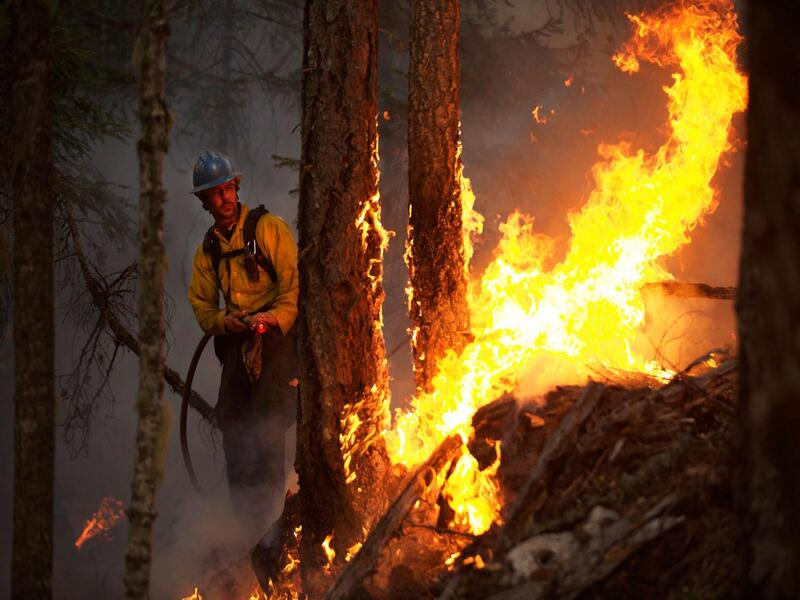fire: (397, 74, 735, 464)
